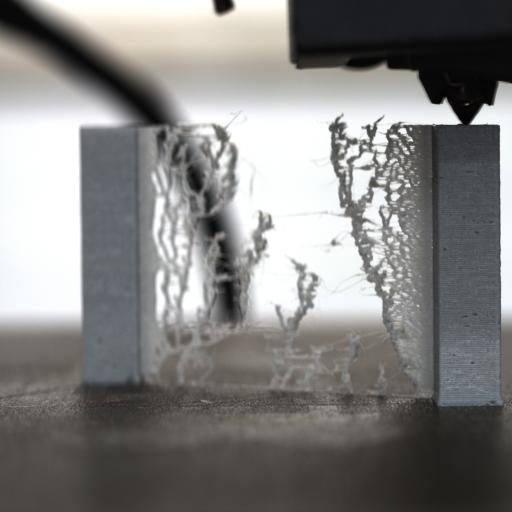stringing: (319, 114, 427, 392), (264, 247, 329, 395)
